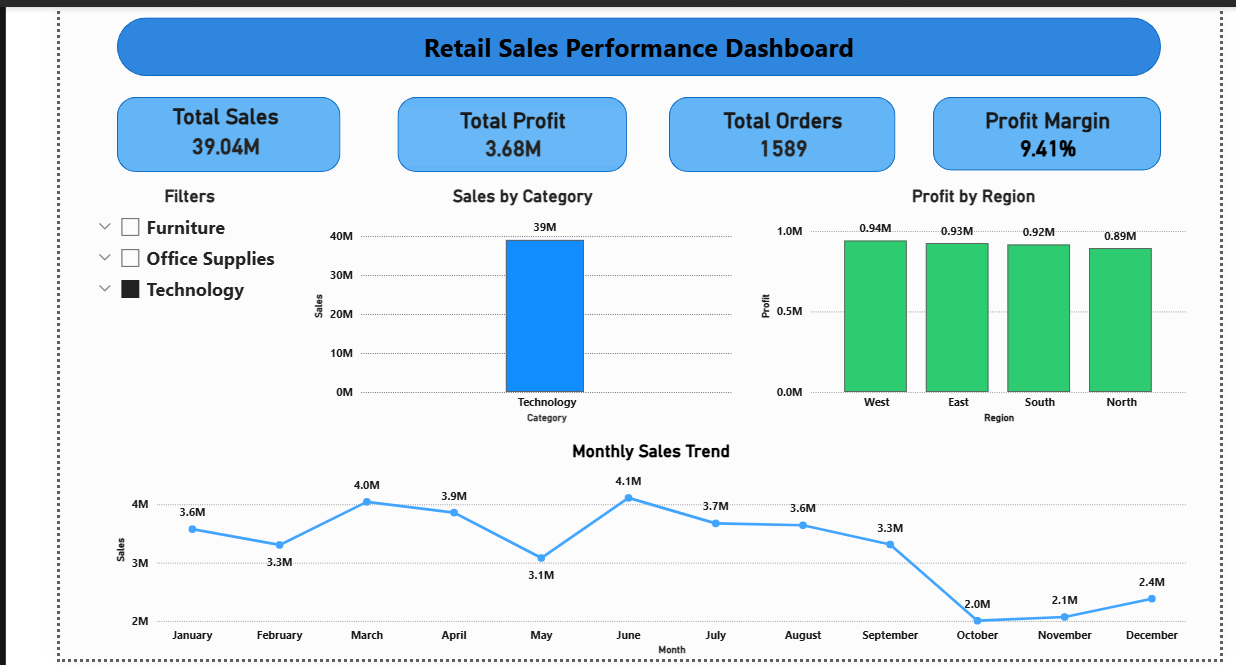

Layout of this report page (visuals, bound fields, positions):
{"tool":"powerbi","page":{"name":"Page 1","canvas":[1280,720],"ordinal":0},"visuals":[{"type":"columnChart","title":"Profit by Region","fields":{"Category":["Sheet1.Region"],"Y":["Sum(Sheet1.Profit)"]},"box":[768.4,196.5,480.7,266.7],"z":0},{"type":"clusteredColumnChart","title":"Sales by Category","fields":{"Category":["Sheet1.Category"],"Y":["Sum(Sheet1.Sales)"]},"box":[275,197.1,472.1,266.7],"z":1000},{"type":"lineChart","title":" Monthly Sales Trend","fields":{"Y":["Sum(Sheet1.Sales)"],"Category":["Sheet1.Month-Name"]},"box":[56.3,478.7,1192.7,241.8],"z":2000},{"type":"shape","box":[62.9,11.6,1152.9,64.6],"z":3000},{"type":"shape","box":[964.1,99.4,251.8,81.2],"z":4000},{"type":"card","title":"Profit Margin","fields":{"Values":["Sheet1.Profit Margin"]},"box":[954.1,111,273.3,64.6],"z":5000},{"type":"shape","box":[672.5,99.4,250.1,82.8],"z":6000},{"type":"shape","box":[372.7,99.4,253.4,82.8],"z":7000},{"type":"shape","box":[62.9,99.4,246.8,82.8],"z":8000},{"type":"card","title":"Total Orders","fields":{"Values":["Sheet1.Total Orders"]},"box":[665.9,111,265,64.6],"z":9000},{"type":"card","title":"Total Profit","fields":{"Values":["Sheet1.Total Profit"]},"box":[374.4,111,251.8,64.6],"z":10000},{"type":"card","title":"Total Sales","fields":{"Values":["Sheet1.Total Sales"]},"box":[67.9,106,230.3,69.6],"z":11000},{"type":"slicer","title":"Filters","fields":{"Values":["Sheet1.Category","Sheet1.Region","Sheet1.Year"]},"box":[26.3,196.5,233.3,266.7],"z":12000}]}

Visuals, with their boxes on the page's 1280x720 design canvas (x1, y1, x2, y2). These are canvas units, not pixel positions in the 1236x665 screenshot, which may show the page scaled, cropped or inside an application window:
"Profit by Region" columnChart: bbox(768, 196, 1249, 463)
"Sales by Category" clusteredColumnChart: bbox(275, 197, 747, 464)
" Monthly Sales Trend" lineChart: bbox(56, 479, 1249, 720)
shape: bbox(63, 12, 1216, 76)
shape: bbox(964, 99, 1216, 181)
"Profit Margin" card: bbox(954, 111, 1227, 176)
shape: bbox(672, 99, 923, 182)
shape: bbox(373, 99, 626, 182)
shape: bbox(63, 99, 310, 182)
"Total Orders" card: bbox(666, 111, 931, 176)
"Total Profit" card: bbox(374, 111, 626, 176)
"Total Sales" card: bbox(68, 106, 298, 176)
"Filters" slicer: bbox(26, 196, 260, 463)
